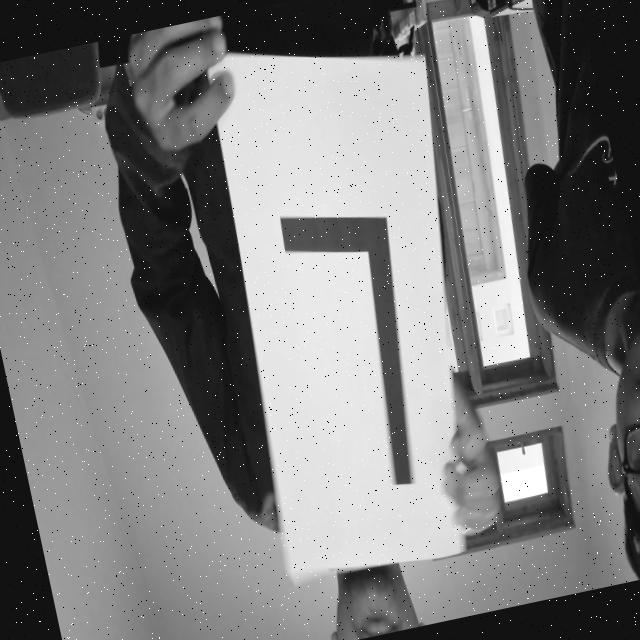l: (259, 164, 454, 512)
